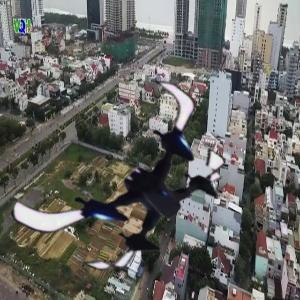drone: (35, 75, 245, 285)
